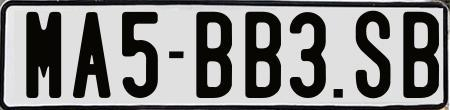3: (289, 11, 331, 100)
5: (120, 11, 157, 101)
A: (70, 10, 109, 96)
B: (243, 11, 285, 99), (195, 10, 235, 99), (400, 12, 432, 103)
M: (26, 10, 67, 100)
S: (355, 11, 392, 103)
